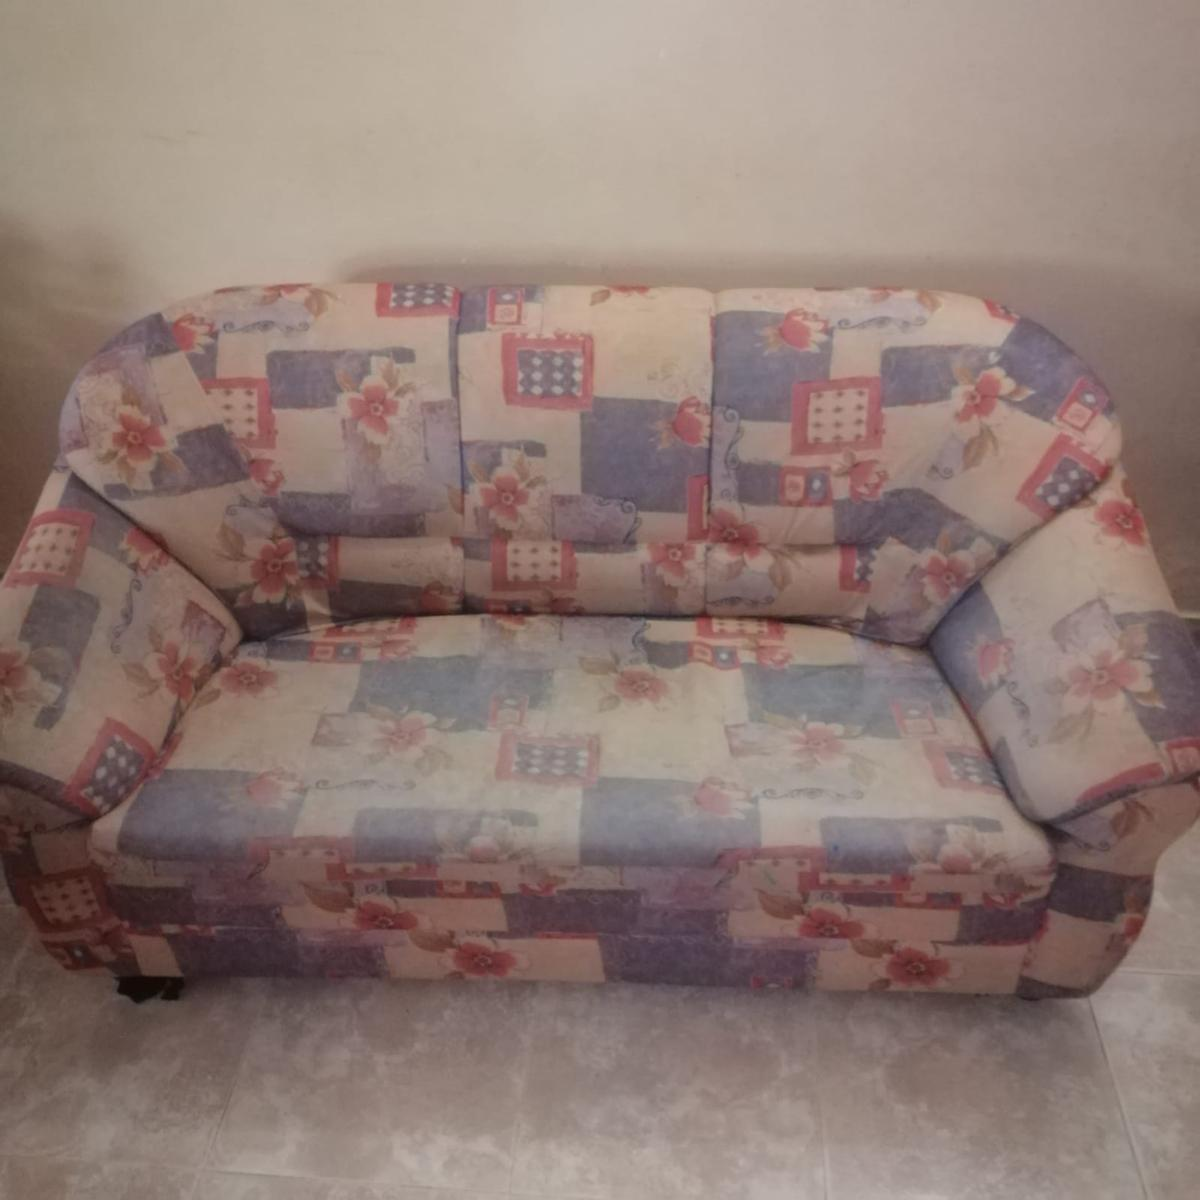Sofa: (4, 281, 1188, 999)
